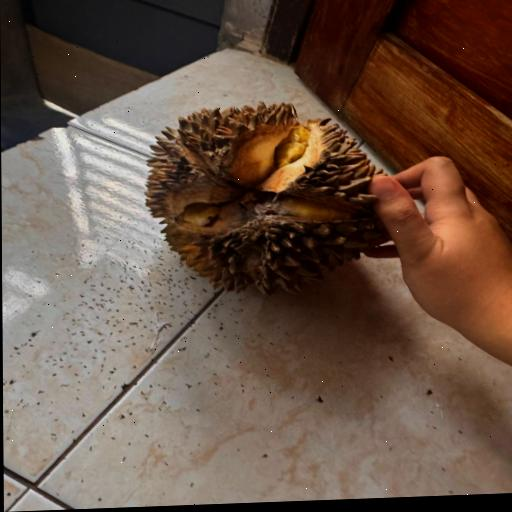rot: (99, 73, 424, 339)
